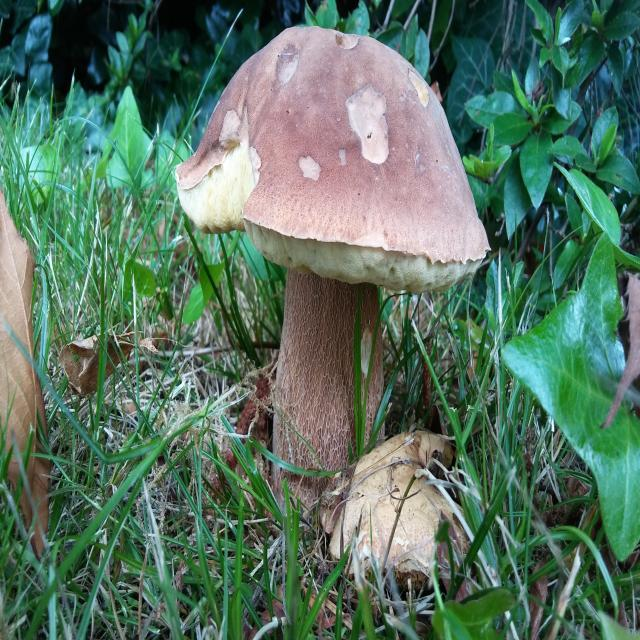Boletus: (177, 24, 490, 522)
